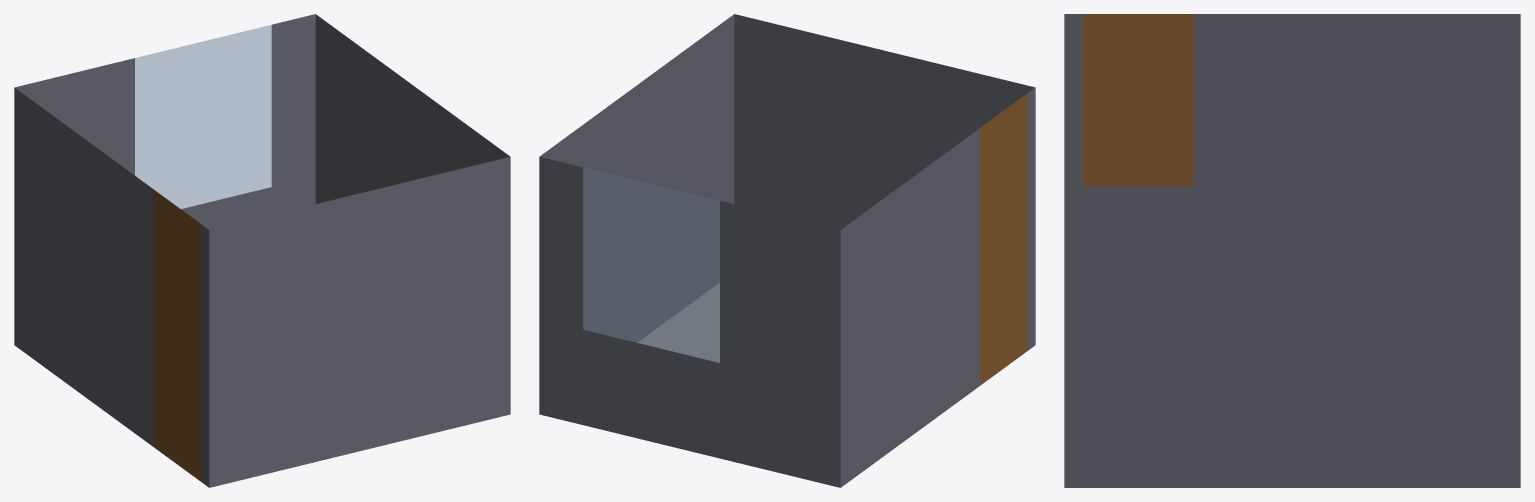
Rendered from room.obj.
3 views of the same model, side by side, from view 1: azimuth 30°, elevation 25°; view 2: azimuth 150°, elevation 25°; view 3: azimuth 270°, elevation 25° (orthographic). The views are drawn at different scales.
Bounding box in the file's own units: 3.3 × 2.7 × 3.7.
